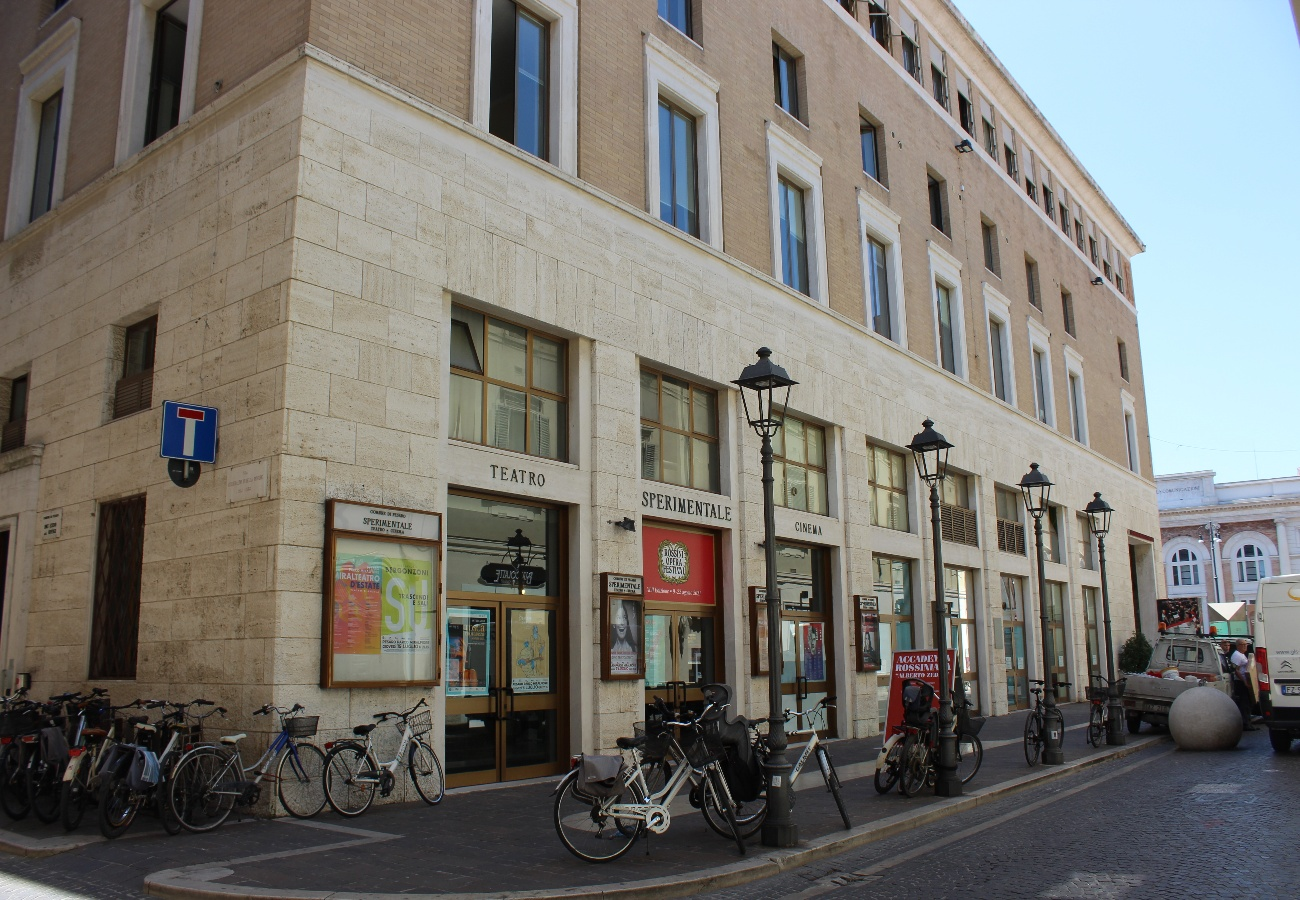Teatro Sperimentale: (270, 1, 1159, 814)
